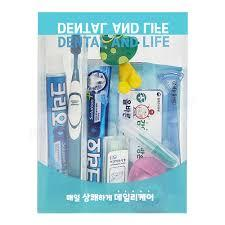toothpaste: (42, 43, 71, 181), (88, 55, 104, 188)
